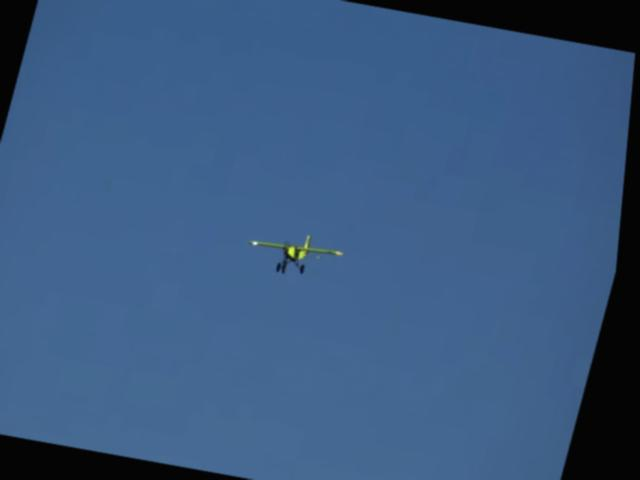plane: (245, 225, 353, 282)
